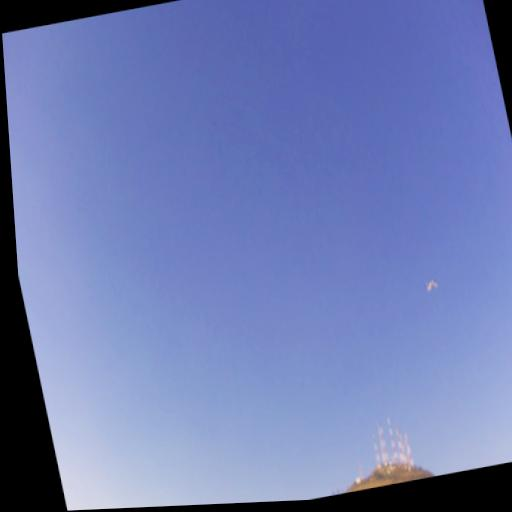drones: (423, 277, 440, 294)
